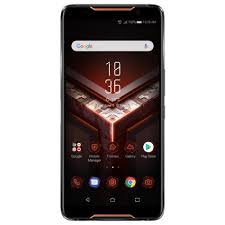asus: (53, 1, 170, 225)
